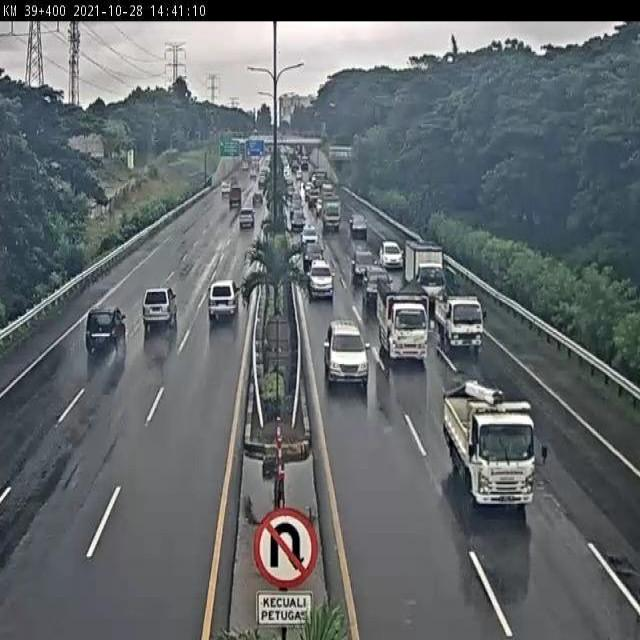car: (322, 320, 370, 385), (306, 256, 334, 301), (363, 266, 391, 306), (350, 246, 376, 282), (377, 237, 402, 268)
mid truck: (85, 306, 127, 354), (142, 287, 179, 329), (206, 279, 239, 324)
truck-m-: (444, 381, 536, 508), (376, 279, 429, 361)
truck-s-: (434, 292, 484, 352), (402, 239, 446, 297)
